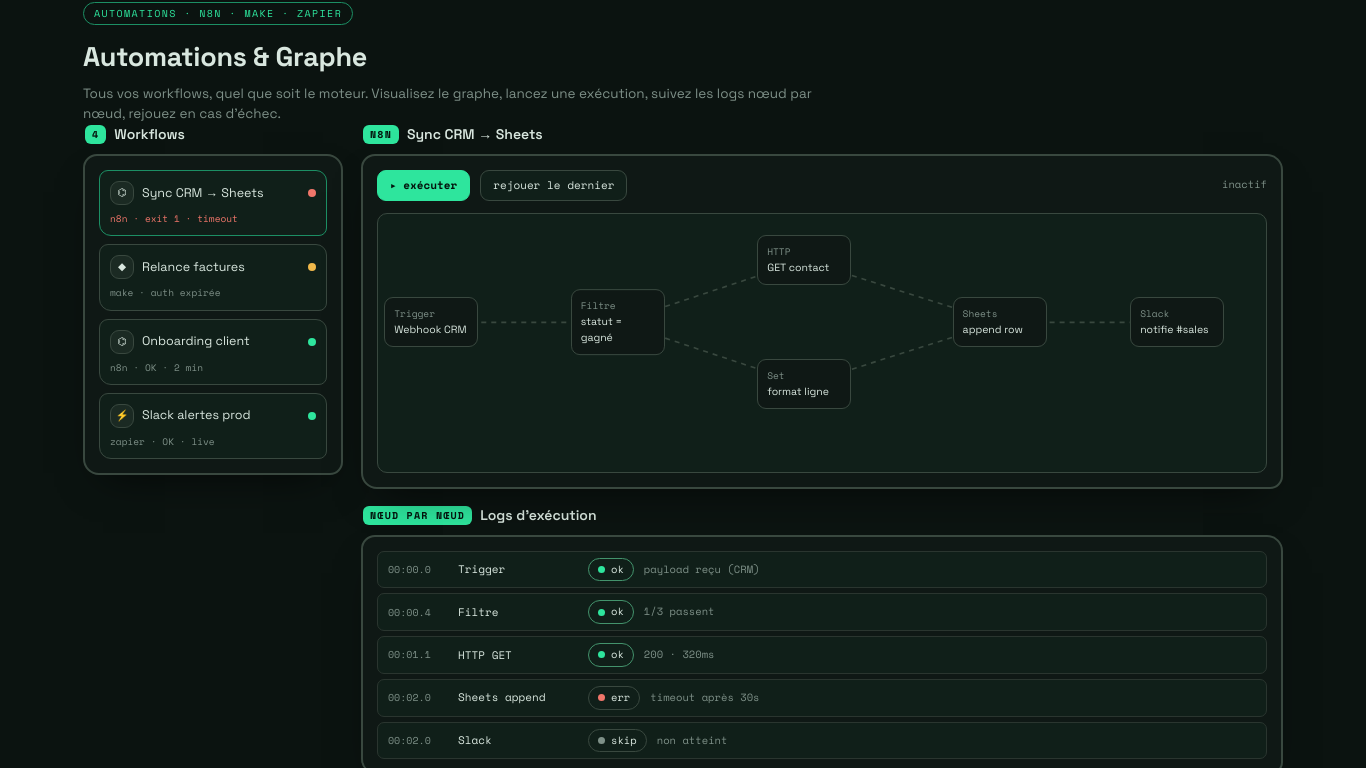
Test: AutomationsView › change de workflow sélectionné
Click the element with class "clickable" that starts with "Onboarding client" at (213, 352), box [99,318,327,385]
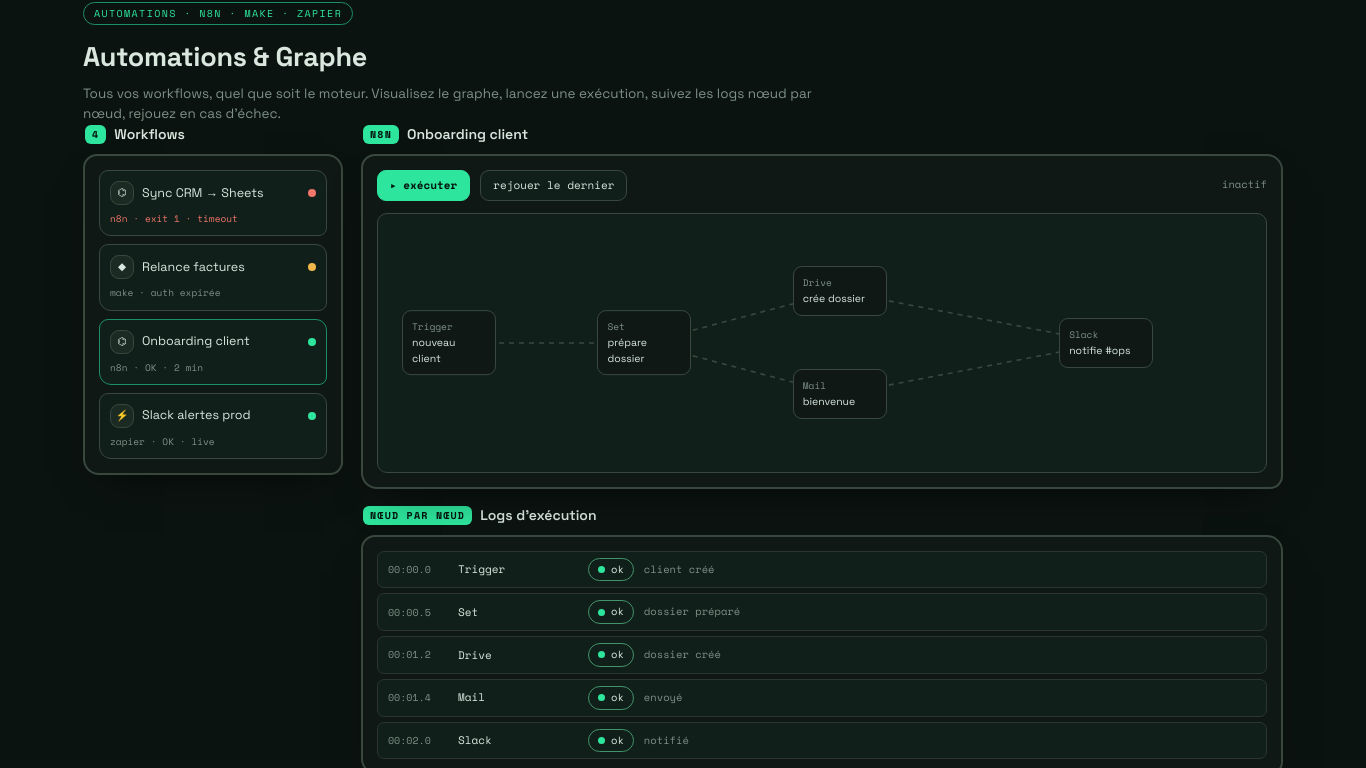
Now the text "crée dossier" is shown, box [803,292,865,305]
